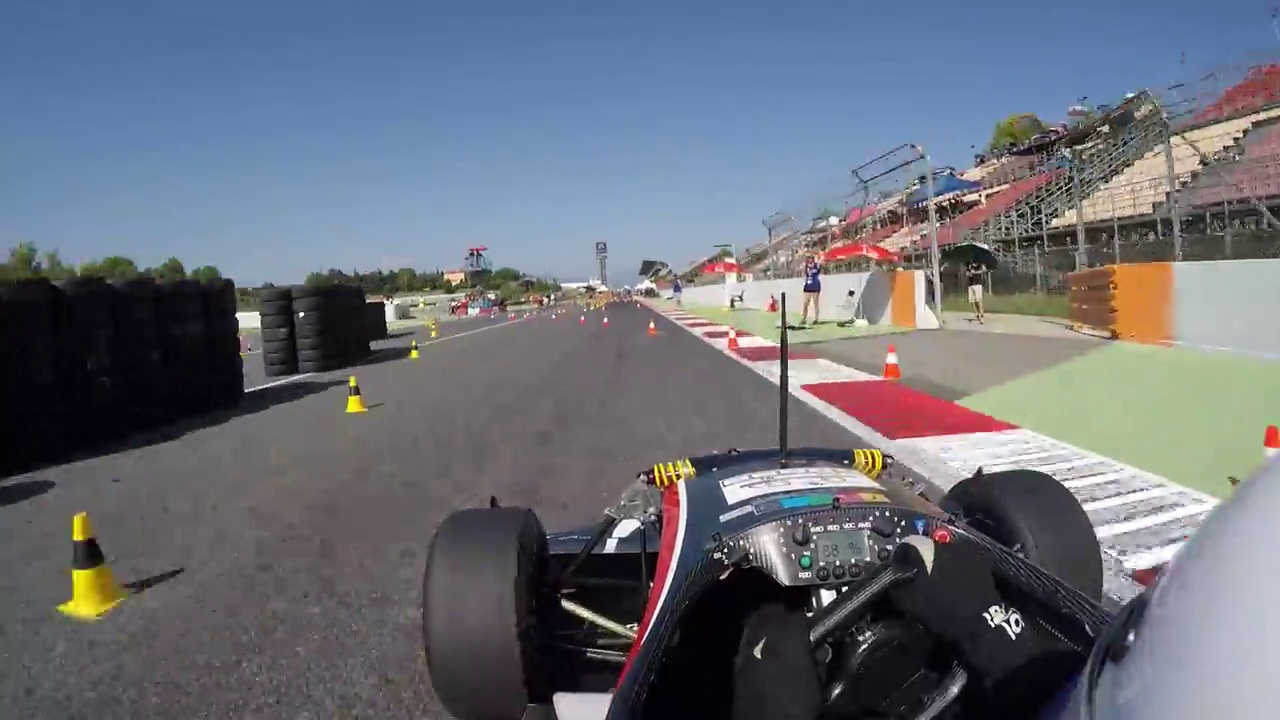Cone: (62, 509, 126, 621), (344, 375, 368, 412)
